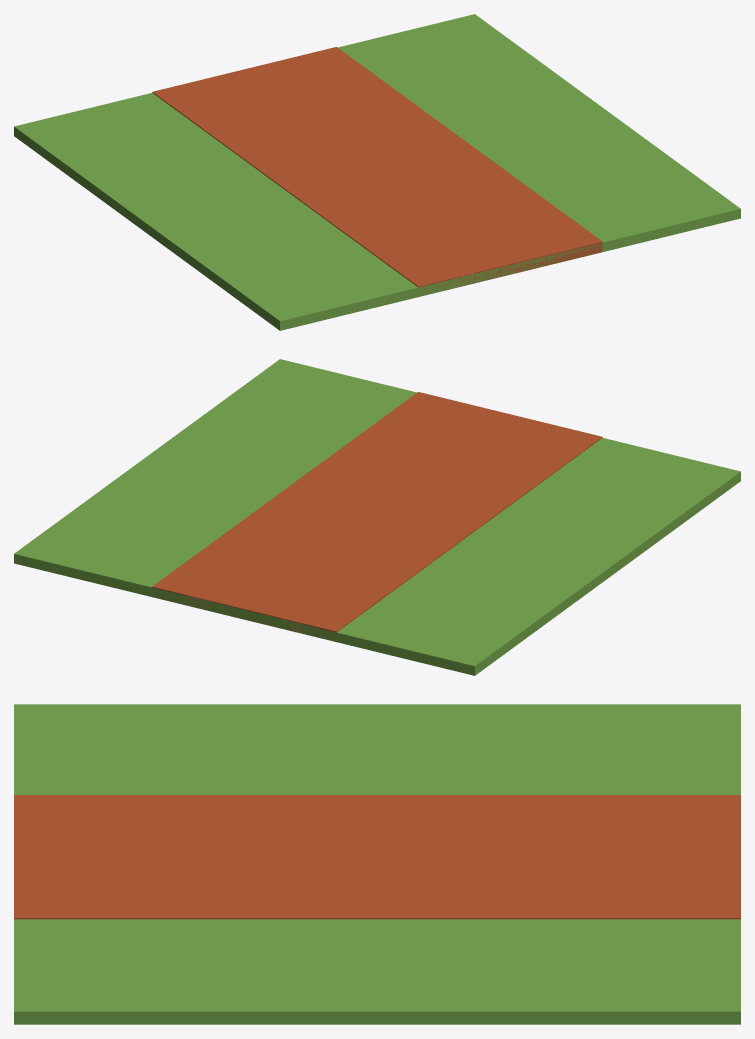
Rendered from ENV_Tile_Road_Laterite.fbx.
3 renders of one model, top to bottom at view 1: azimuth 30°, elevation 25°; view 2: azimuth 150°, elevation 25°; view 3: azimuth 270°, elevation 25°, orthographic. The views are drawn at different scales.
Visible parts, largest first — view 1: ENV_Tile_Road_Laterite; view 2: ENV_Tile_Road_Laterite; view 3: ENV_Tile_Road_Laterite.
Part boxes in pixels (x1,y1,x2,y2): ENV_Tile_Road_Laterite: [14, 14, 740, 330]; ENV_Tile_Road_Laterite: [14, 359, 740, 675]; ENV_Tile_Road_Laterite: [14, 704, 740, 1024].
Bounding box in the file's own units: 10 × 0.22 × 10.
